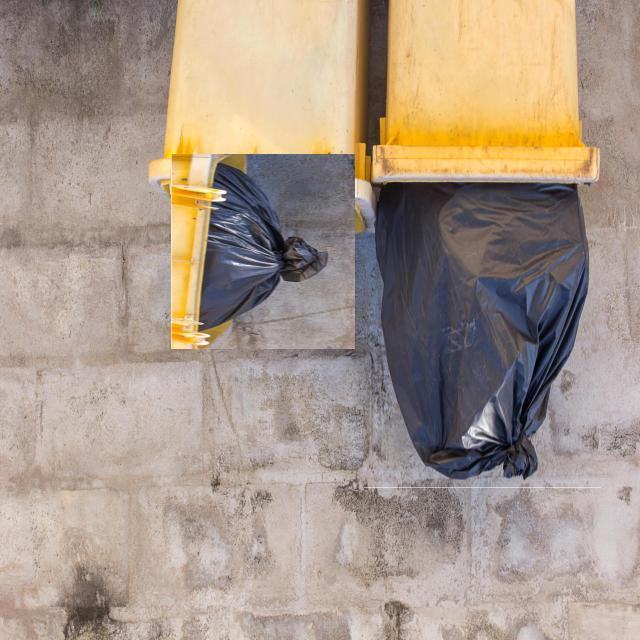Trashbag: (364, 184, 595, 495), (184, 171, 325, 332)
